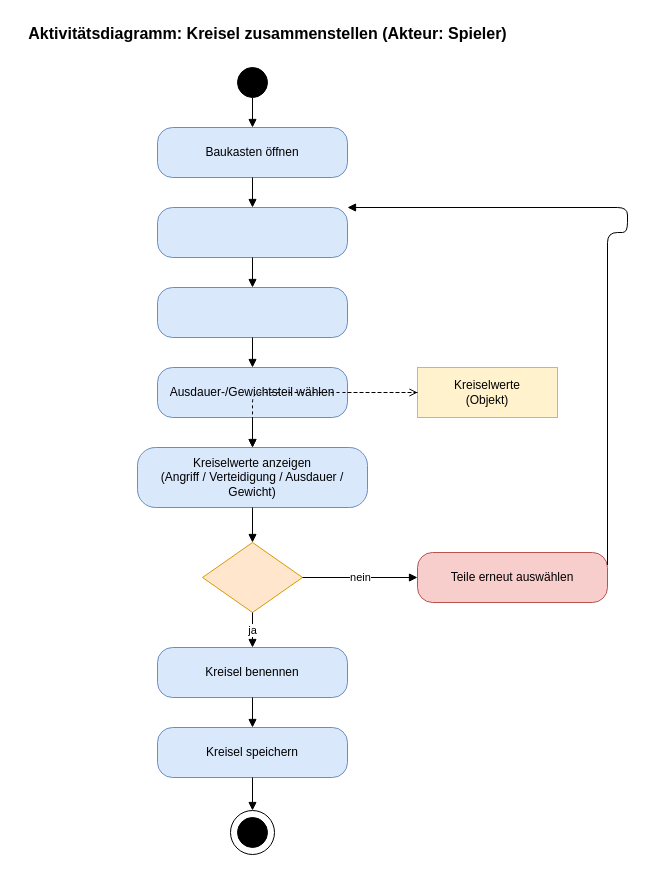
Some shapes in this 653 by 872 pixel diagram are drawn without their labels. The box of each missing label's shape, as (x1, y1, x2, y2) in pixels:
Angriffsteil wählen: (156, 206, 348, 258)
Konfiguration übernehmen?: (202, 542, 302, 612)
Verteidigungsteil wählen: (156, 286, 348, 338)
